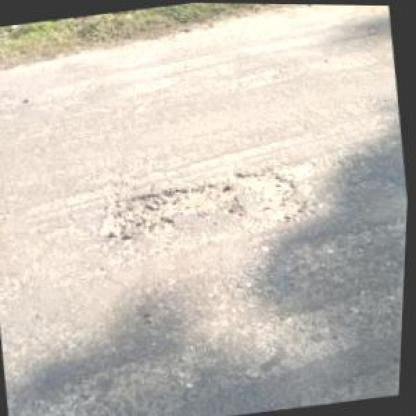pothole: (92, 159, 307, 247)
